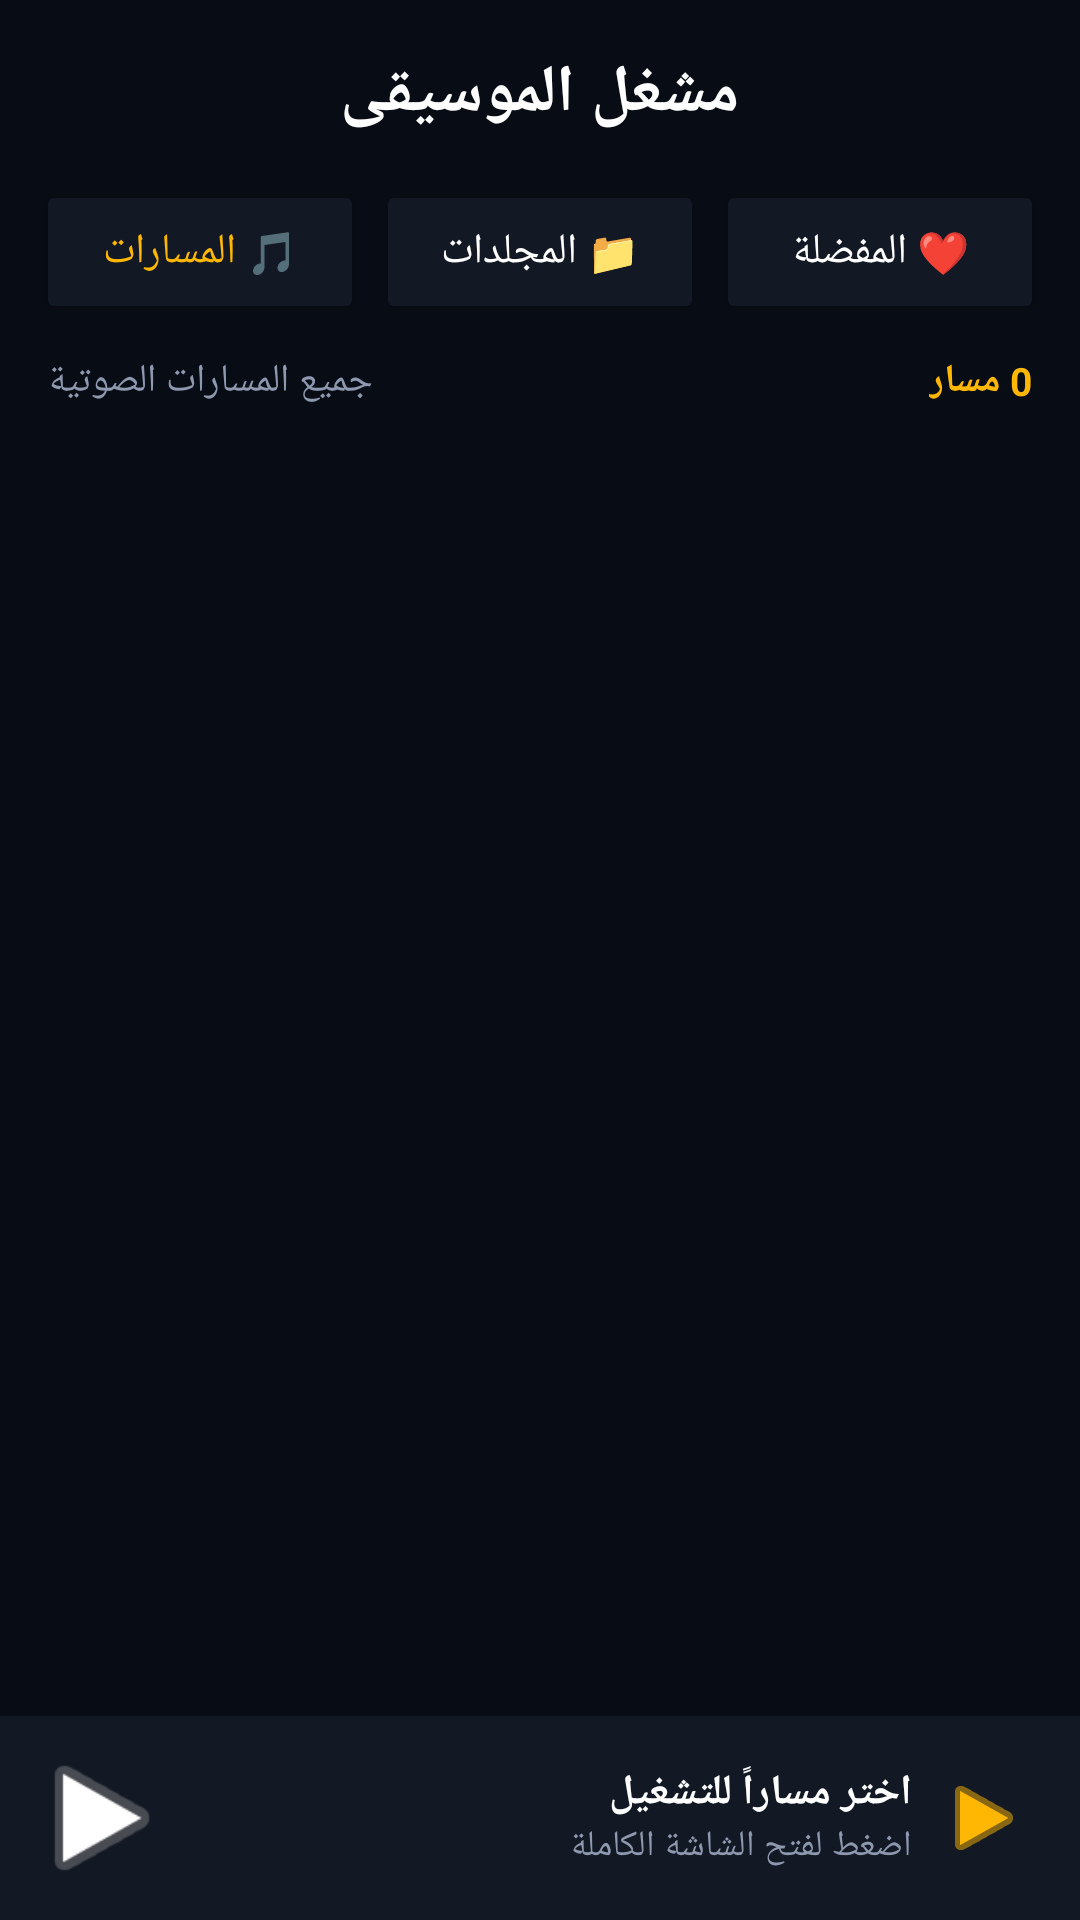

Icons on this 1080 × 1920 Android screen, each with the point to tap as (x,y):
play: (102,1818), (984,1818)
